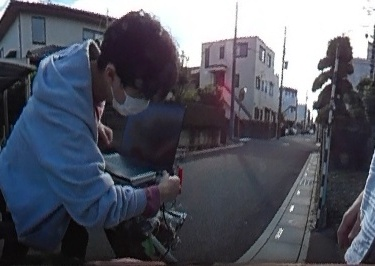person: (2, 8, 178, 262)
